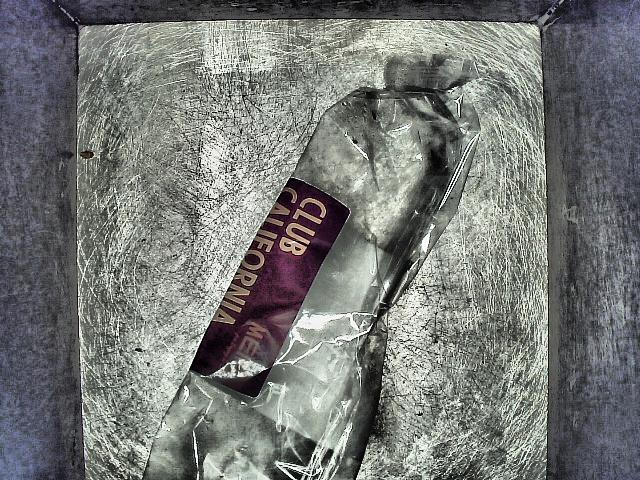Plastic: (150, 47, 494, 480)
